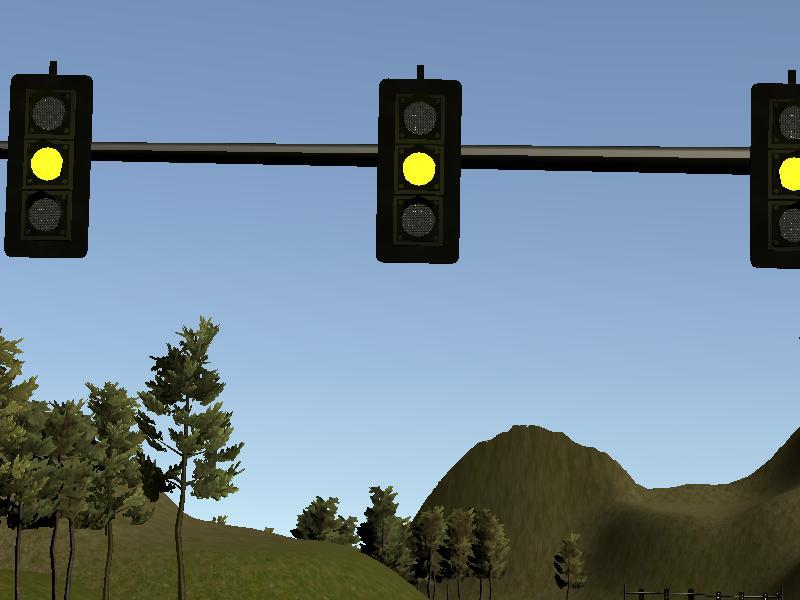Yellow: (375, 79, 460, 263), (9, 75, 86, 255), (751, 83, 800, 266)
